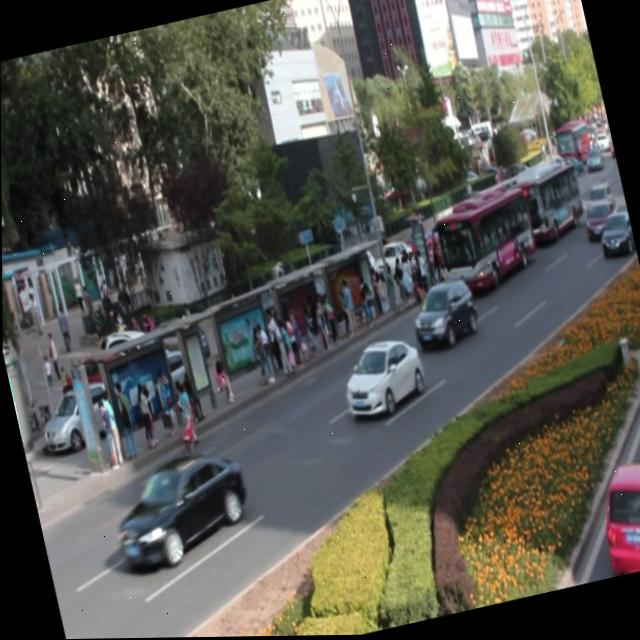car: (102, 444, 255, 574), (333, 331, 428, 421), (405, 275, 480, 351), (592, 209, 636, 259), (579, 197, 617, 244)
van: (420, 181, 535, 300), (496, 153, 584, 251)
